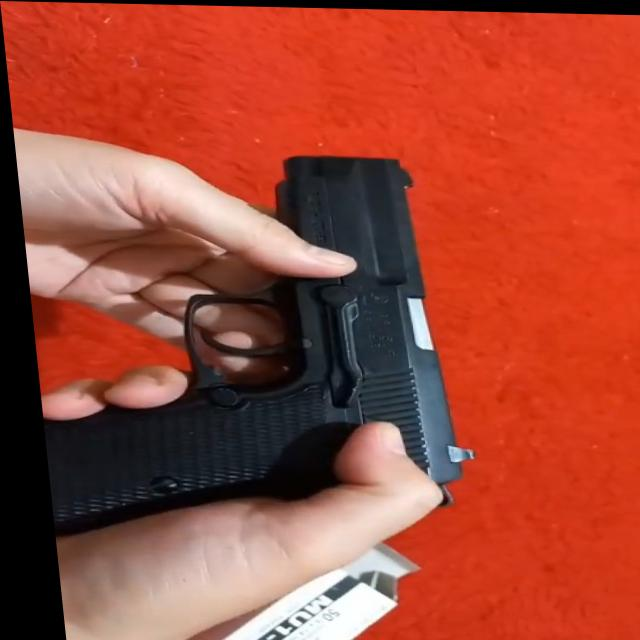handgun: (13, 147, 460, 525)
